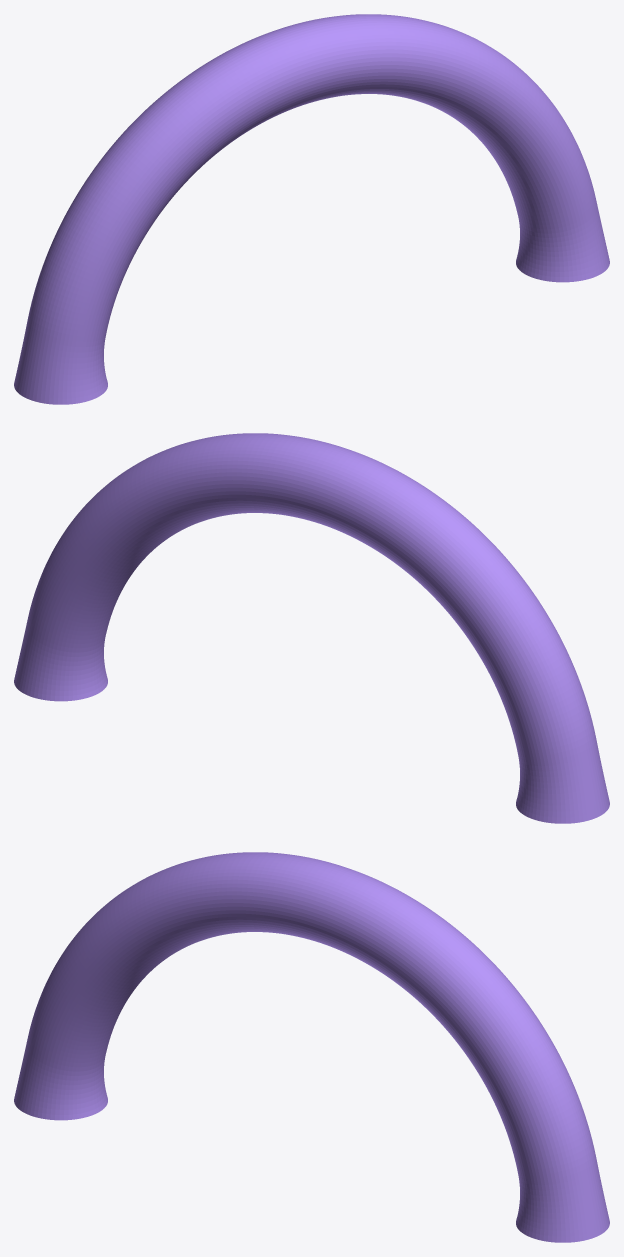
Rendered from arch_purple.glb.
3 views of the same model, one above another, from view 1: azimuth 30°, elevation 25°; view 2: azimuth 150°, elevation 25°; view 3: azimuth 330°, elevation 25° (orthographic).
Visible parts, largest first — view 1: geometry_0; view 2: geometry_0; view 3: geometry_0.
Part boxes in pixels (box(x1,y1,x2,y2)): geometry_0: box(14, 14, 609, 404); geometry_0: box(14, 433, 609, 823); geometry_0: box(14, 852, 609, 1242).
Bounding box in the file's own units: 10.46 × 5.12 × 1.46.
